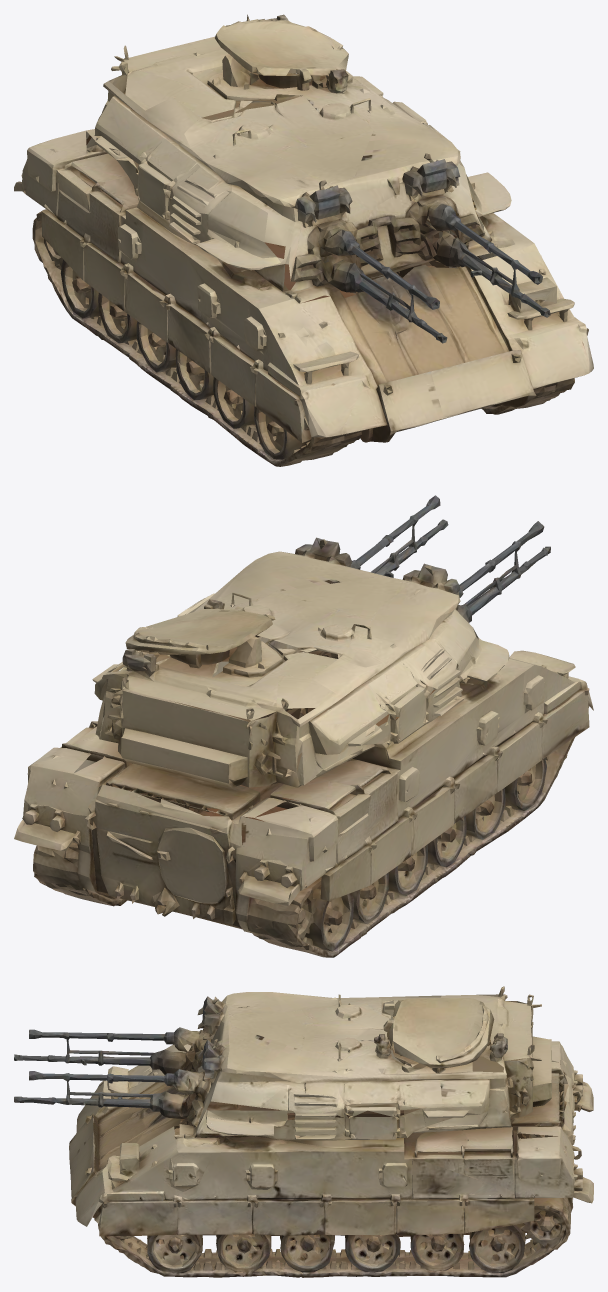
The model's file is zsu234_shilka.glb.
The picture shows the model from 3 angles, top to bottom: view 1: azimuth 30°, elevation 25°; view 2: azimuth 150°, elevation 25°; view 3: azimuth 270°, elevation 25°; orthographic projection. The views are drawn at different scales.
Visible parts, largest first — view 1: hull, turret, radar, guns; view 2: hull, turret, radar, guns; view 3: hull, turret, radar, guns.
Part boxes in pixels (x1,y1,x2,y2): hull: (14,85,593,466); turret: (86,56,491,303); radar: (118,14,348,127); guns: (321,204,550,343); hull: (14,636,593,957); turret: (73,537,478,817); radar: (114,609,355,720); guns: (350,495,550,623); hull: (69,1010,593,1277); turret: (179,992,564,1138); radar: (389,986,534,1069); guns: (14,1027,191,1124).
Size of the model in its own units: 3.2 by 2.79 by 6.5.
Materials: 1 (1 with a texture image).
